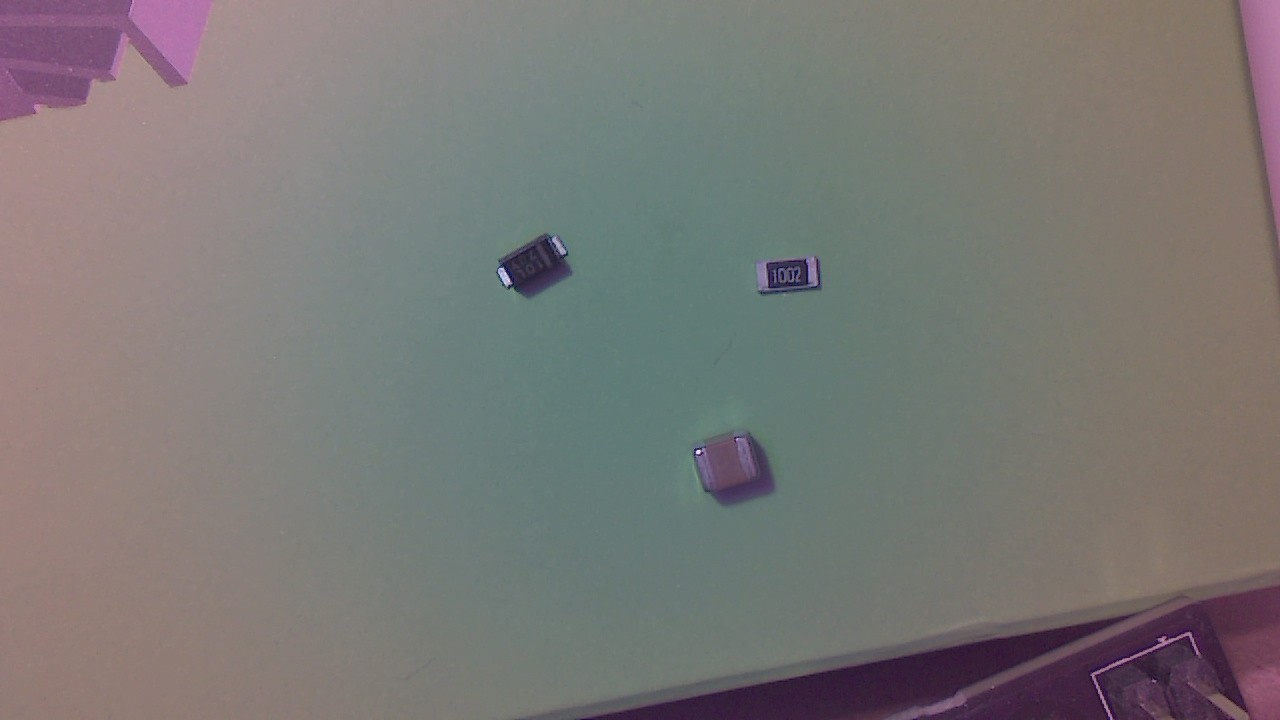Condensator: (695, 436, 762, 500)
Diode: (498, 236, 577, 299)
Resistor: (759, 259, 834, 297)
